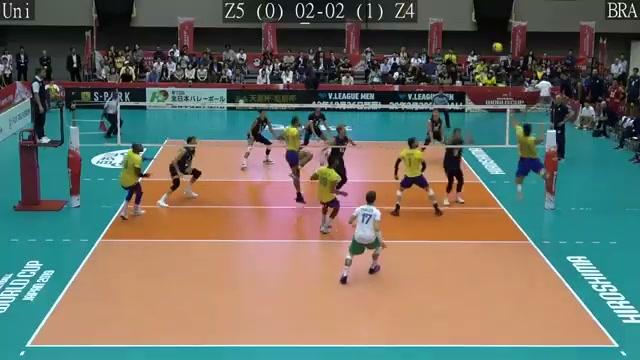ball: (492, 41, 505, 55)
